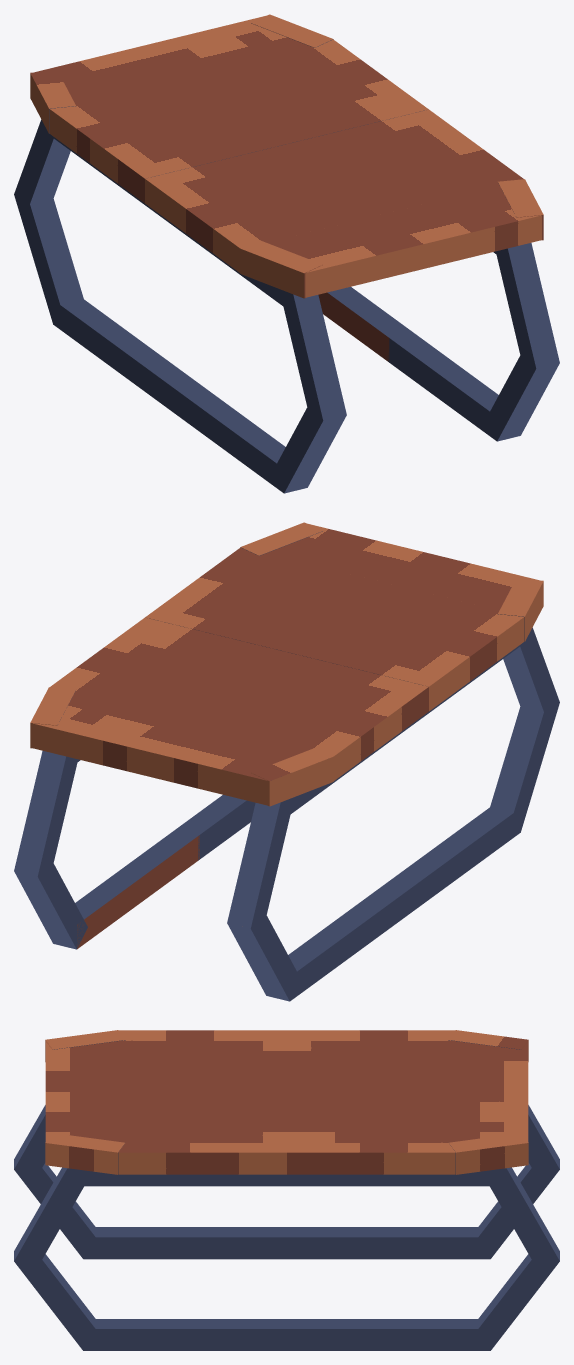
The model's file is table.obj.
3 views of the same model, one above another, from view 1: azimuth 30°, elevation 25°; view 2: azimuth 150°, elevation 25°; view 3: azimuth 270°, elevation 25° (orthographic). The views are drawn at different scales.
Visible parts, largest first — view 1: obj10, obj21, obj20, obj11, obj2, obj17, obj16, obj19, obj14, obj4, obj15, obj1 (+7 smaller); view 2: obj21, obj10, obj11, obj20, obj2, obj1, obj17, obj6, obj5, obj18, obj3, obj4 (+6 smaller); view 3: obj10, obj21, obj2, obj1, obj11, obj20, obj17, obj16, obj3, obj12, obj5, obj14 (+10 smaller).
Boxes of the visible parts, left/top/right/bottom form: obj10: left=49, top=39, right=428, bottom=203; obj21: left=145, top=109, right=523, bottom=272; obj20: left=266, top=185, right=541, bottom=297; obj11: left=35, top=15, right=307, bottom=102; obj2: left=53, top=299, right=197, bottom=414; obj17: left=175, top=383, right=285, bottom=493; obj16: left=387, top=331, right=498, bottom=441; obj19: left=279, top=290, right=346, bottom=422; obj14: left=496, top=243, right=559, bottom=369; obj4: left=14, top=188, right=83, bottom=324; obj15: left=486, top=347, right=559, bottom=441; obj1: left=318, top=287, right=410, bottom=361; obj21: left=145, top=547, right=524, bottom=711; obj10: left=50, top=617, right=428, bottom=780; obj11: left=32, top=693, right=307, bottom=805; obj20: left=266, top=523, right=538, bottom=610; obj2: left=288, top=882, right=412, bottom=1001; obj1: left=75, top=830, right=199, bottom=949; obj17: left=388, top=807, right=520, bottom=910; obj6: left=227, top=798, right=294, bottom=928; obj5: left=14, top=751, right=77, bottom=877; obj18: left=490, top=703, right=559, bottom=832; obj3: left=14, top=855, right=87, bottom=949; obj4: left=227, top=907, right=297, bottom=1001; obj10: left=287, top=1030, right=455, bottom=1174; obj21: left=118, top=1030, right=286, bottom=1174; obj2: left=273, top=1227, right=490, bottom=1259; obj1: left=273, top=1319, right=490, bottom=1350; obj11: left=456, top=1041, right=528, bottom=1141; obj20: left=45, top=1041, right=117, bottom=1141; obj17: left=83, top=1227, right=276, bottom=1259; obj16: left=83, top=1319, right=276, bottom=1350; obj3: left=478, top=1249, right=559, bottom=1350; obj12: left=69, top=1168, right=286, bottom=1186; obj5: left=483, top=1167, right=559, bottom=1270; obj14: left=14, top=1167, right=88, bottom=1271.
Size of the model in its own units: 0.7516 by 0.5963 by 1.41.
Materials: 1 (1 with a texture image).
